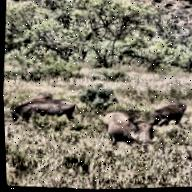boar: (11, 84, 80, 135), (104, 111, 159, 158), (153, 102, 192, 128)
